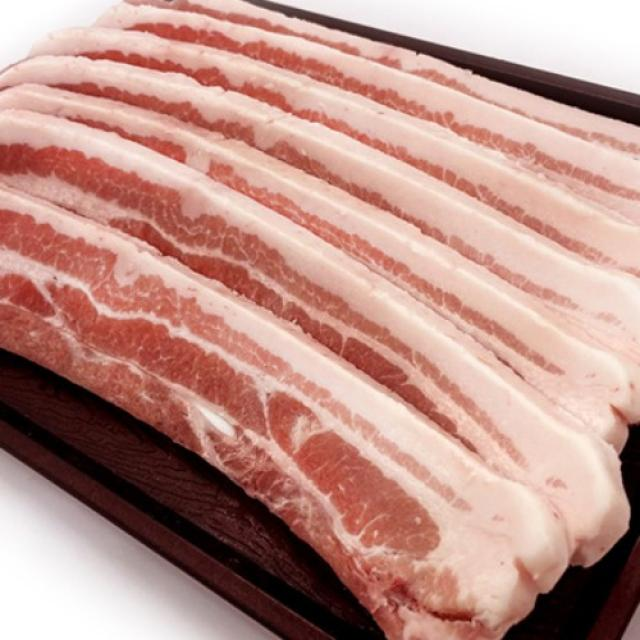pork: (14, 0, 640, 612)
